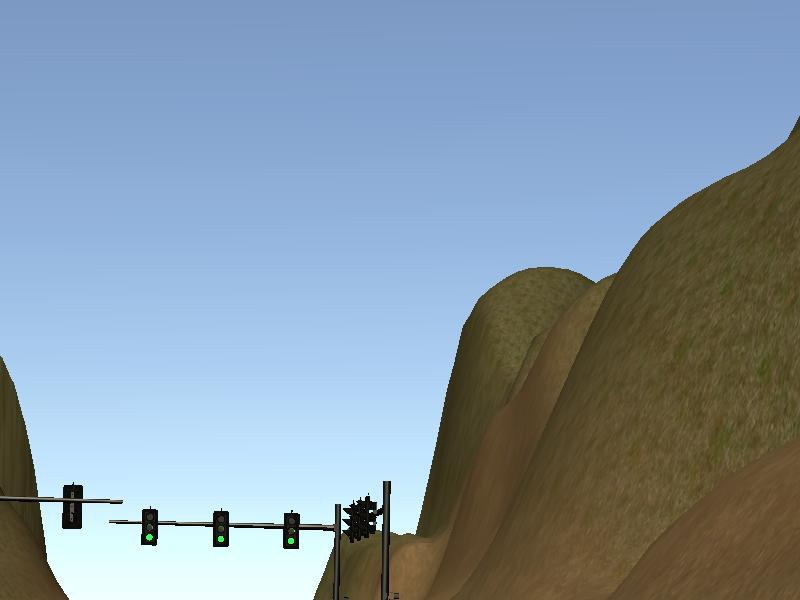green_light: (213, 510, 230, 548), (142, 510, 158, 546), (284, 514, 298, 547)
